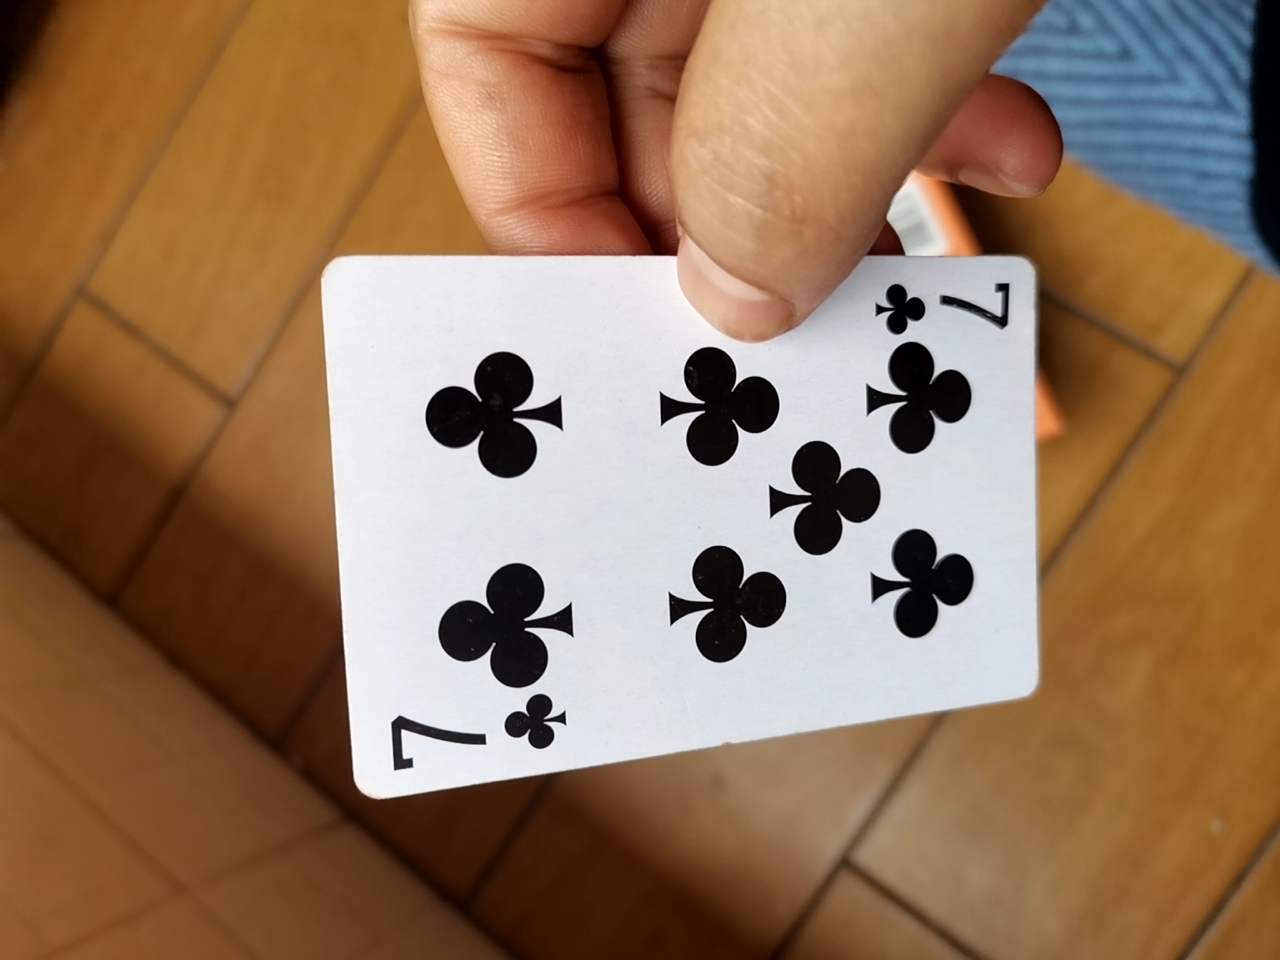mh 7: (298, 247, 1046, 814)
